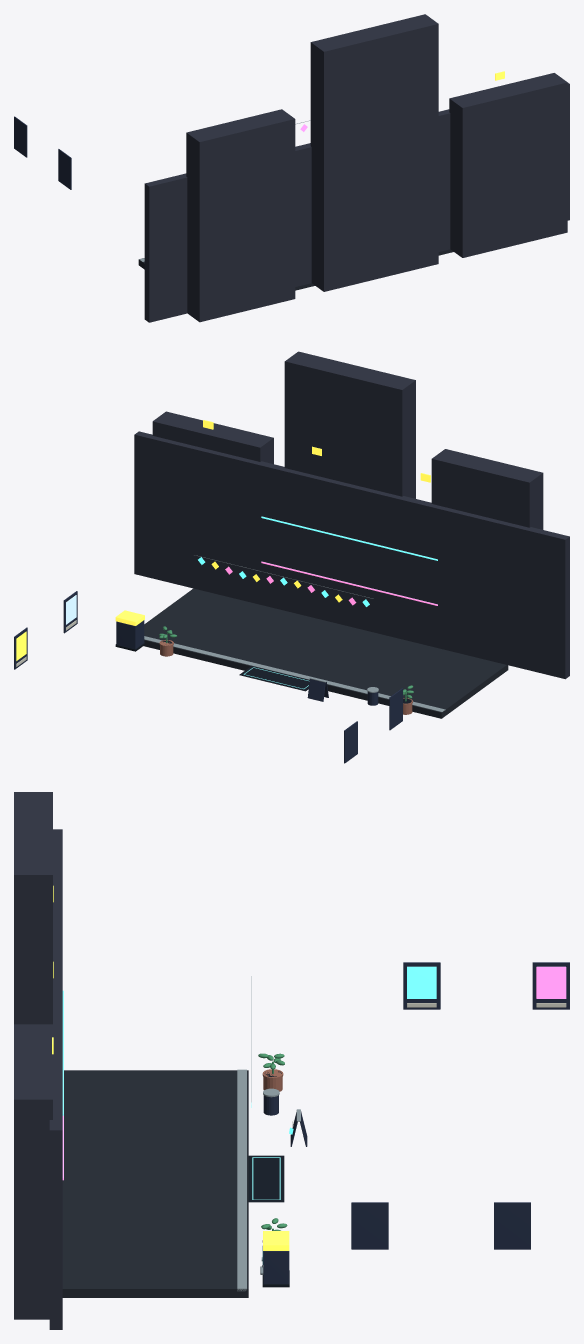
Rendered from arcade-props.glb.
The picture shows the model from 3 angles, top to bottom: view 1: azimuth 30°, elevation 25°; view 2: azimuth 150°, elevation 25°; view 3: azimuth 270°, elevation 25°; orthographic projection. The views are drawn at different scales.
Visible parts, largest first — view 1: Block1, Block0, Block2, Facade, Poster0 back, Poster1 back; view 2: Facade, Pavement, Block1, Block0, Block2, Kerb, Entrance mat, Token cabinet; view 3: Pavement, Block2, Block1, Facade, Kerb, Poster3 back, Poster2 back, Entrance mat, Poster0 art, Poster1 art, Token cabinet, Poster0 back (+1 smaller).
Boxes of the visible parts, bbox=[...] form: Block1: bbox=[310, 14, 438, 291]; Block0: bbox=[186, 109, 295, 322]; Block2: bbox=[449, 73, 567, 257]; Facade: bbox=[144, 82, 569, 322]; Poster0 back: bbox=[14, 116, 27, 157]; Poster1 back: bbox=[58, 149, 71, 189]; Facade: bbox=[134, 431, 569, 679]; Pavement: bbox=[144, 588, 508, 718]; Block1: bbox=[284, 351, 415, 498]; Block0: bbox=[431, 449, 543, 529]; Block2: bbox=[152, 411, 273, 464]; Kerb: bbox=[144, 636, 445, 711]; Entrance mat: bbox=[239, 666, 309, 691]; Token cabinet: bbox=[116, 620, 144, 648]; Pavement: bbox=[62, 1070, 248, 1297]; Block2: bbox=[14, 1024, 52, 1319]; Block1: bbox=[14, 793, 52, 1024]; Facade: bbox=[49, 829, 62, 1329]; Kerb: bbox=[237, 1069, 246, 1291]; Poster3 back: bbox=[351, 1202, 388, 1249]; Poster2 back: bbox=[494, 1202, 530, 1249]; Entrance mat: bbox=[248, 1155, 284, 1202]; Poster0 art: bbox=[536, 966, 566, 998]; Poster1 art: bbox=[407, 966, 436, 998]; Token cabinet: bbox=[263, 1251, 289, 1283]; Poster0 back: bbox=[532, 962, 569, 1009].
Size of the model in its own units: 22 by 12.31 by 17.18.
